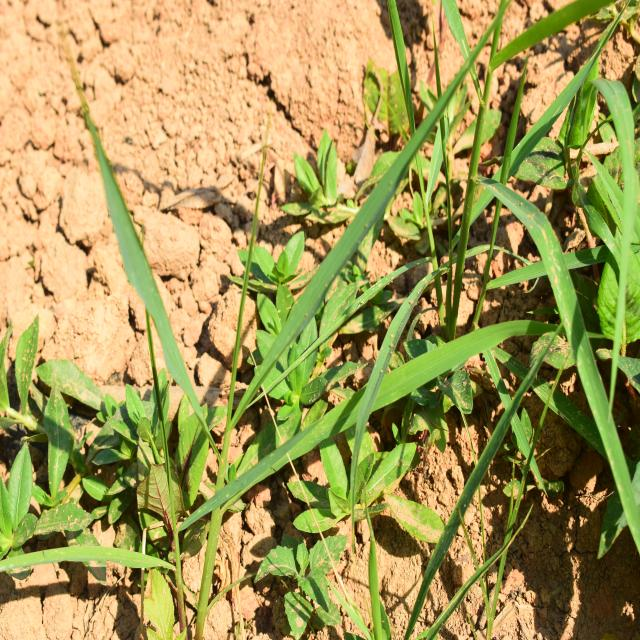green_foxtail: (96, 72, 496, 464), (377, 6, 633, 413)
